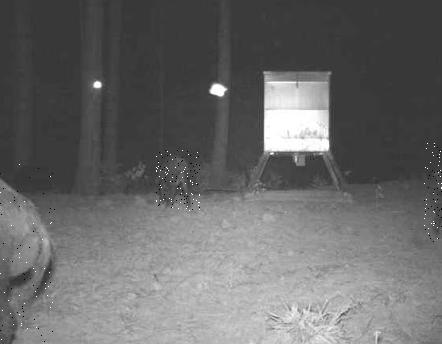Hog: (0, 164, 56, 344), (156, 150, 200, 211), (424, 142, 442, 242)
